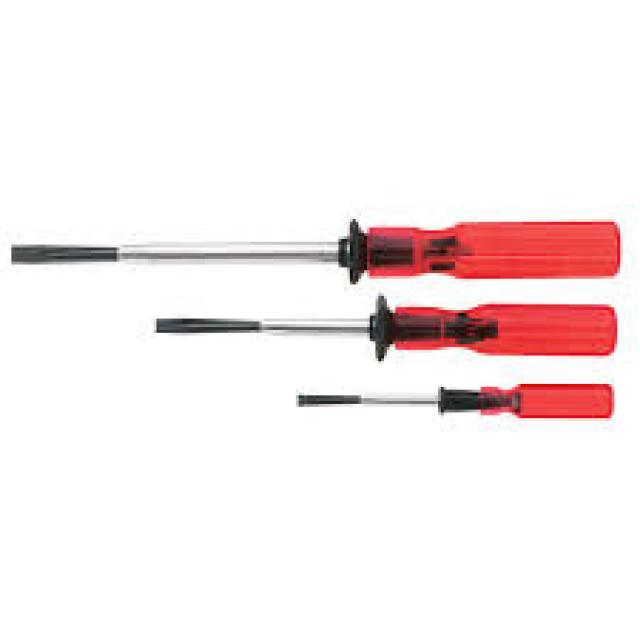screw driver: (0, 194, 640, 304), (132, 271, 640, 374), (271, 356, 640, 437)
